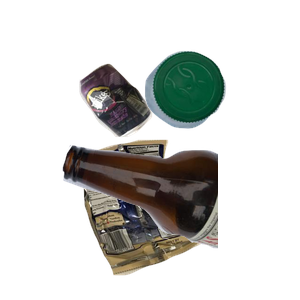glass: (60, 142, 300, 300)
metal: (77, 61, 222, 191)
plastic: (142, 48, 300, 169)
trash: (81, 137, 280, 300)
